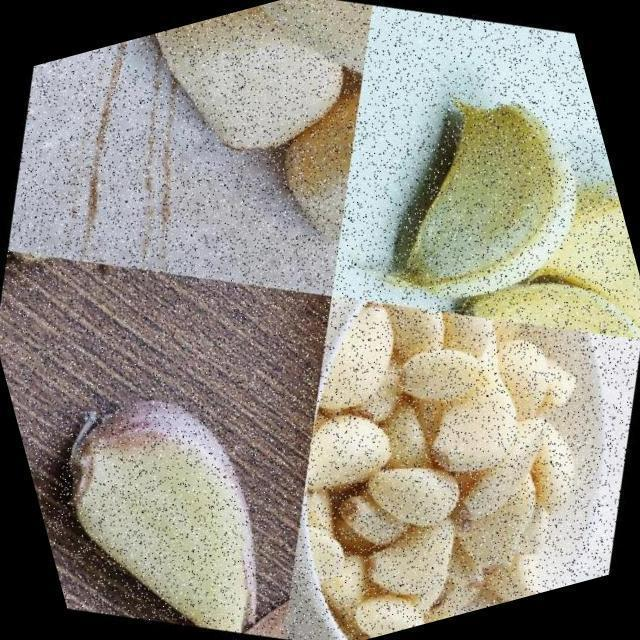garlic: (202, 232, 640, 640), (43, 0, 431, 312), (341, 42, 640, 368), (12, 344, 328, 640), (419, 214, 640, 388), (467, 149, 640, 371), (168, 519, 313, 640)
